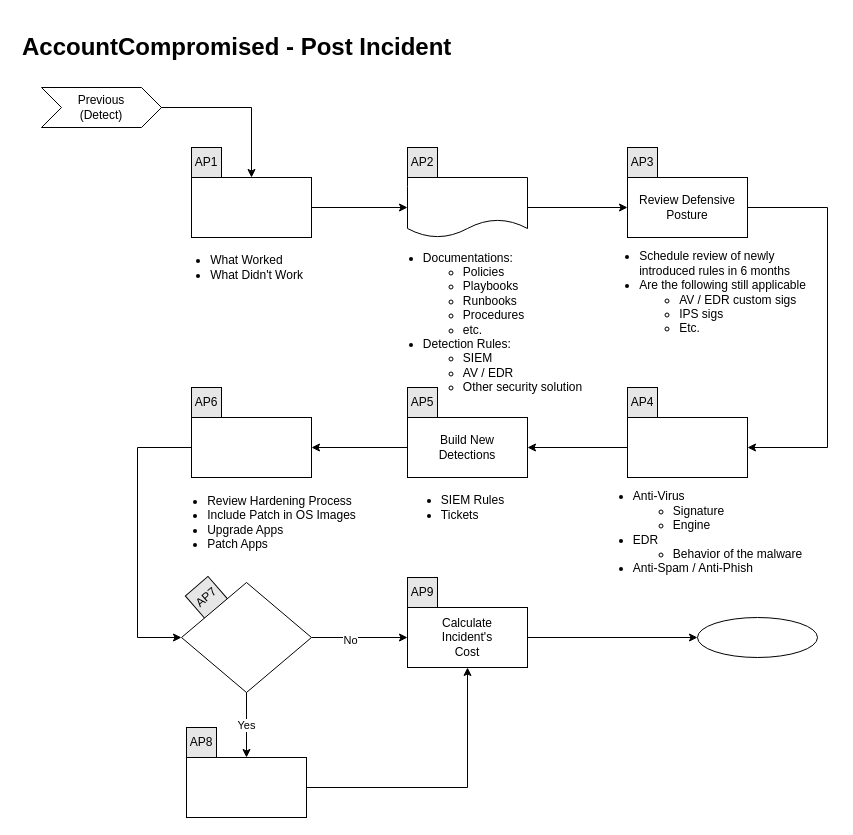
Image size: 853x835. Some labels were removed from this diagram. Each missing label, with the centre of its shape:
Incident Cause by Human: (246,637)
Incident Review: (251,207)
Modify Base Images: (251,447)
Stop: (757,637)
Update / Upgrade Defences: (687,447)
Update Policies & Procedures: (467,207)
User Awareness Training: (246,787)
